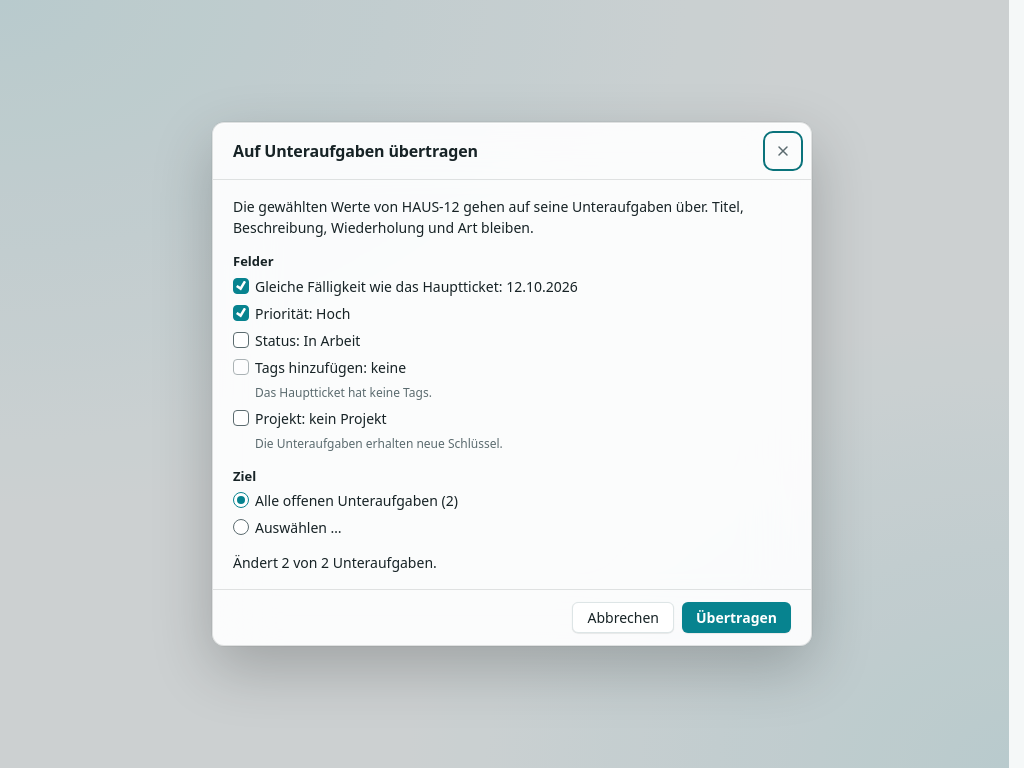
Scenario: the dialog › shows a refusal as a section message in the dialog and stays open
Click the button "Übertragen".
click(736, 618)  # box [682,602,791,633]
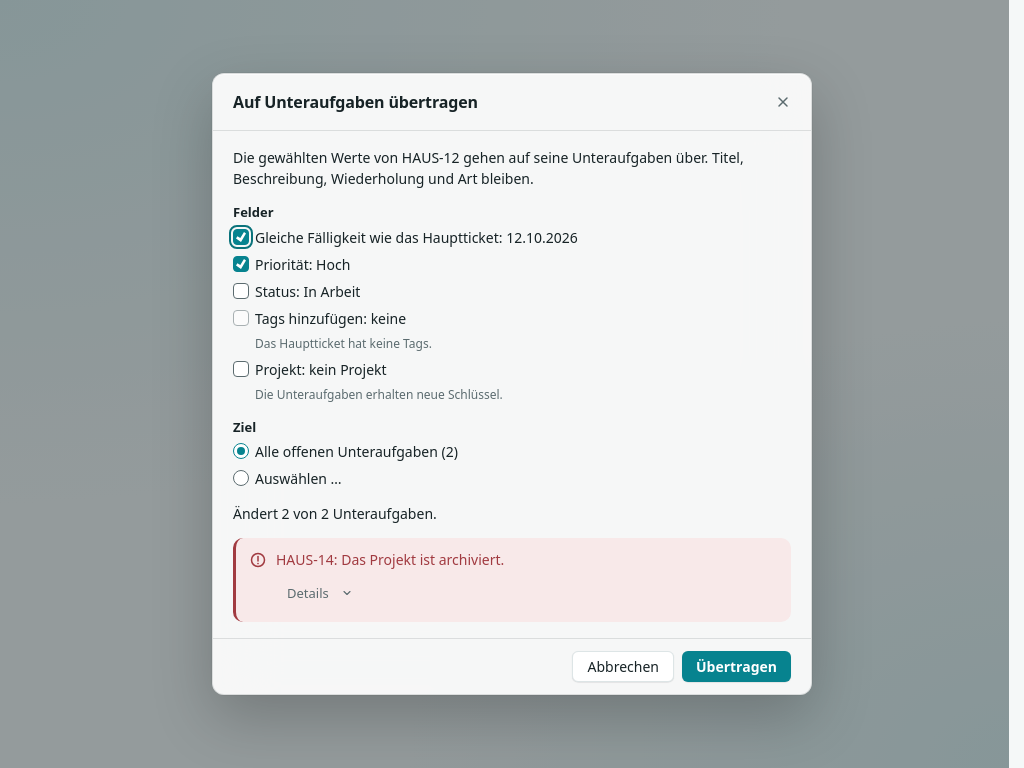
Now the message shows "HAUS-14: Das Projekt ist archiviert.", box [276,550,504,569]
